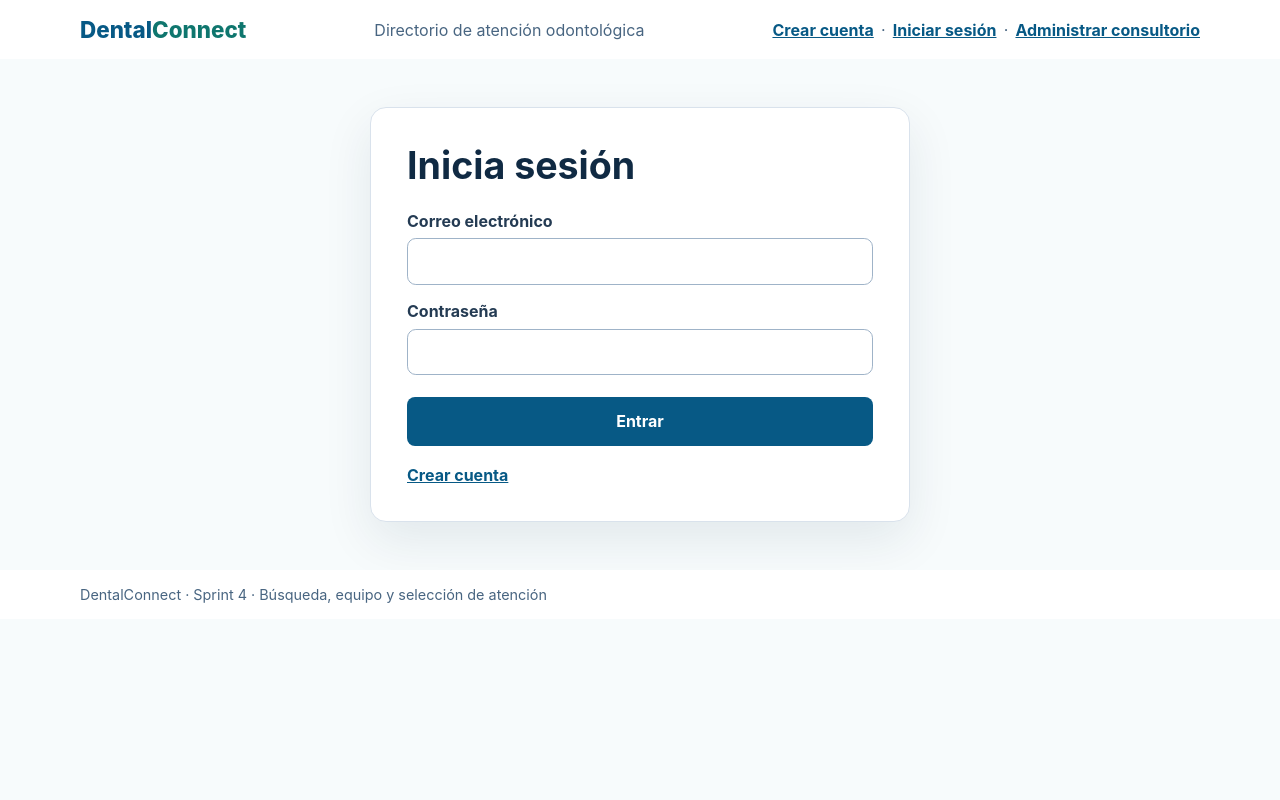
Sprint 2 account flow › keeps the user on login when the provider rejects an unverified account
Type "paciente@example.com" into the field labelled "Correo electrónico" at (640, 262), box [407, 238, 873, 285]
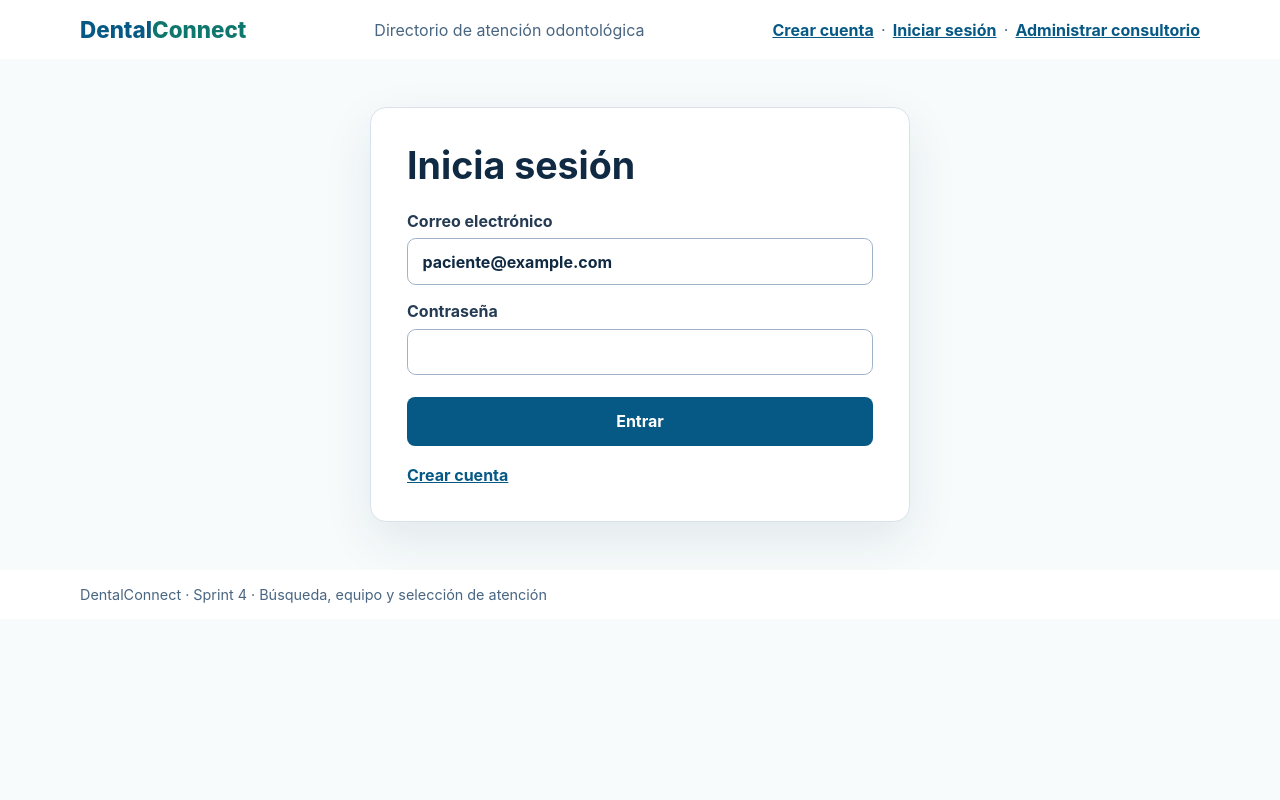
Type "DentConnect123!" into the password field labelled "Contraseña" at (640, 352), box [407, 328, 873, 375]
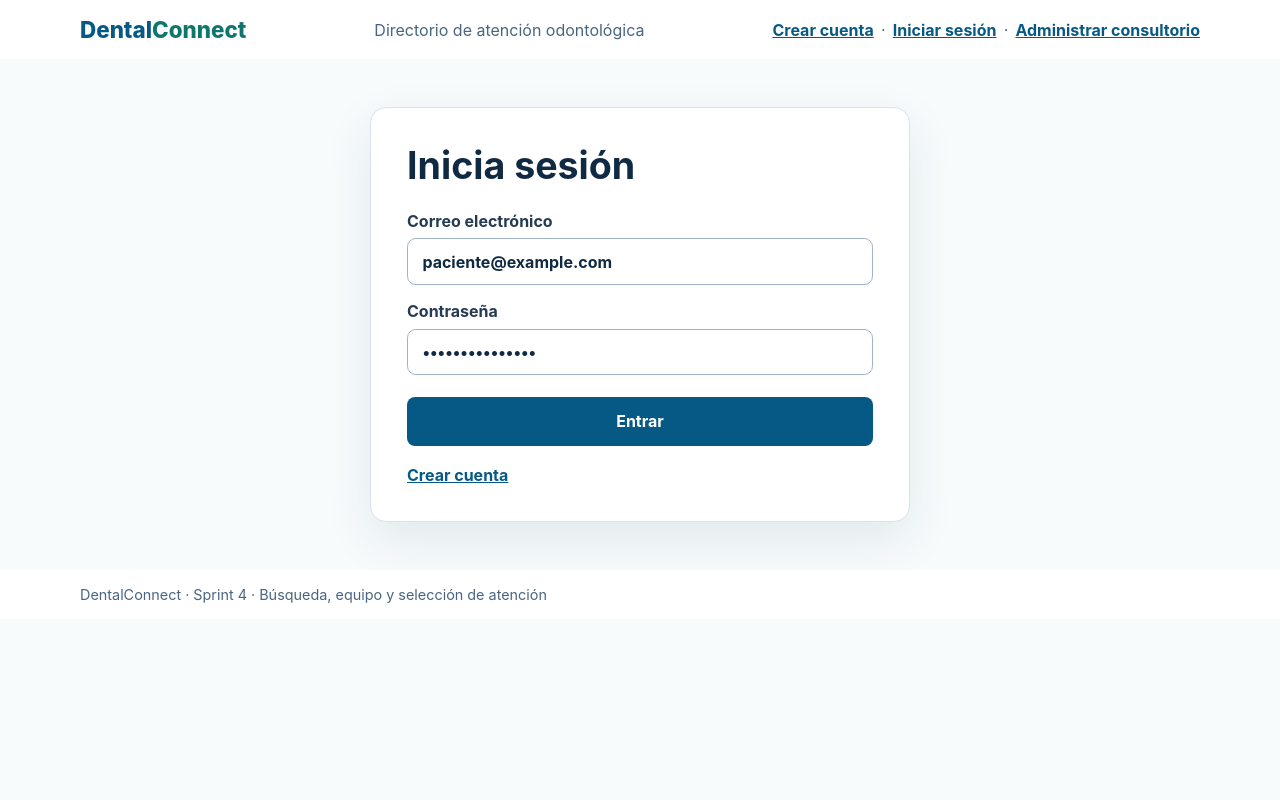
Click the button "Entrar" at (640, 422), box [407, 397, 873, 446]
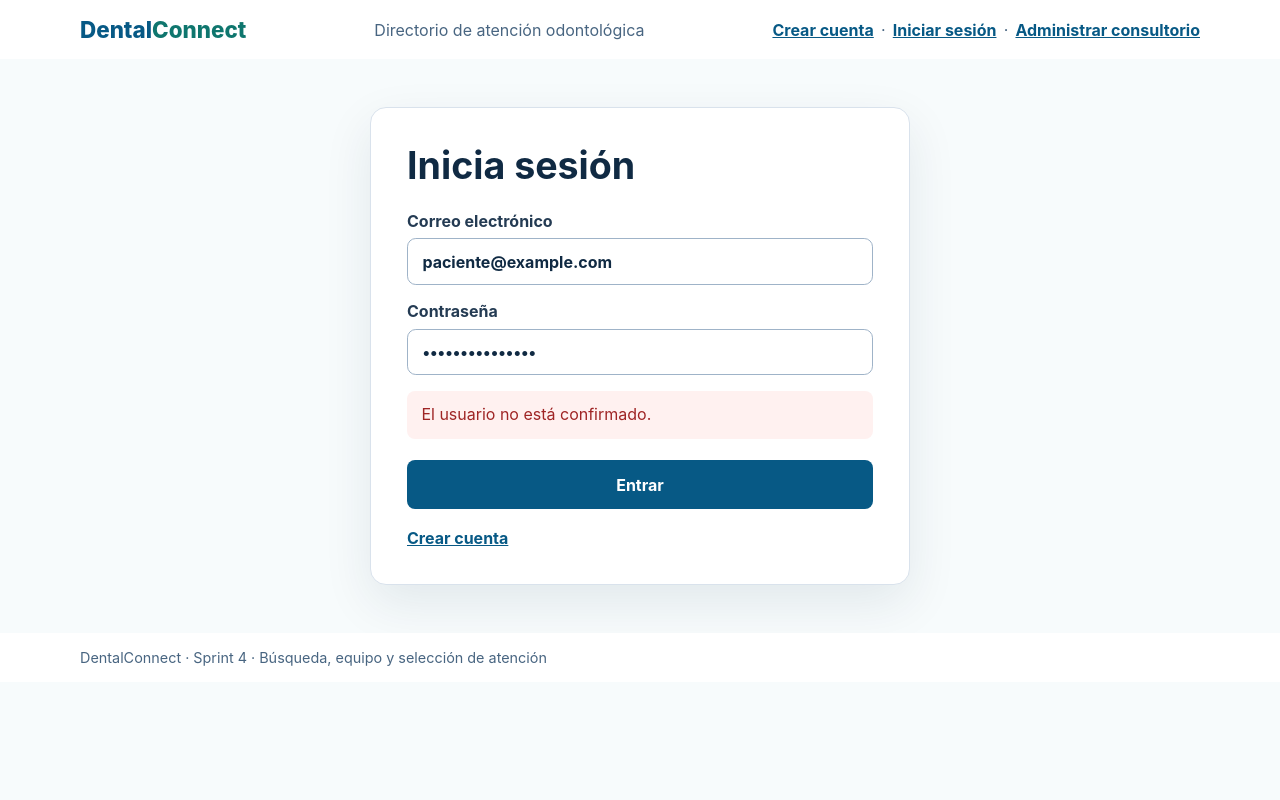
Expected: the message reads "El usuario no está confirmado.", [421, 404, 651, 424]
